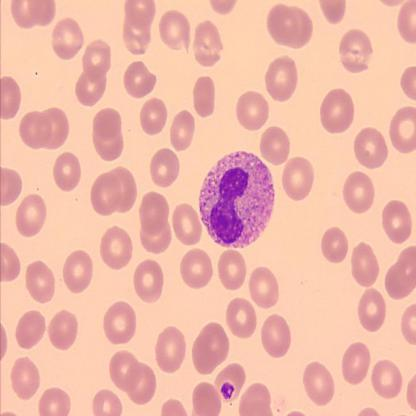Band Neutrophil: (197, 148, 276, 251)
